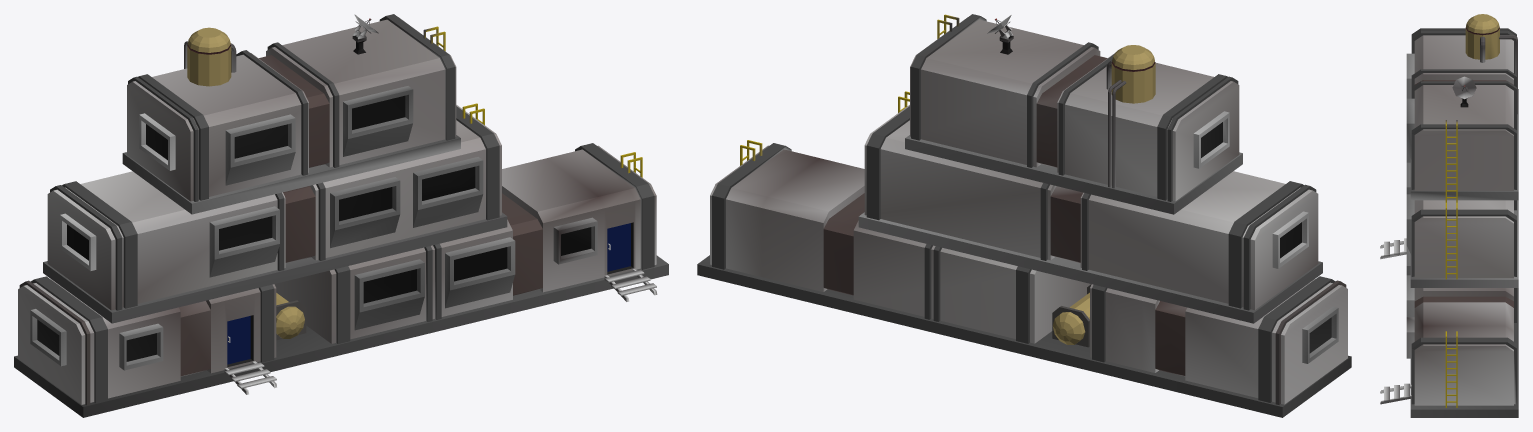
File: edificacao7.fbx
3 views of the same model, side by side, from view 1: azimuth 30°, elevation 25°; view 2: azimuth 150°, elevation 25°; view 3: azimuth 270°, elevation 25° (orthographic). The views are drawn at different scales.
Parts seen in each view (by area): view 1: edificacao7; view 2: edificacao7; view 3: edificacao7.
Boxes of the visible parts, left/top/right/bottom form: edificacao7: left=14, top=14, right=668, bottom=417; edificacao7: left=697, top=14, right=1351, bottom=417; edificacao7: left=1380, top=14, right=1518, bottom=417.
Bounding box in the file's own units: 2996 × 1503 × 779.
